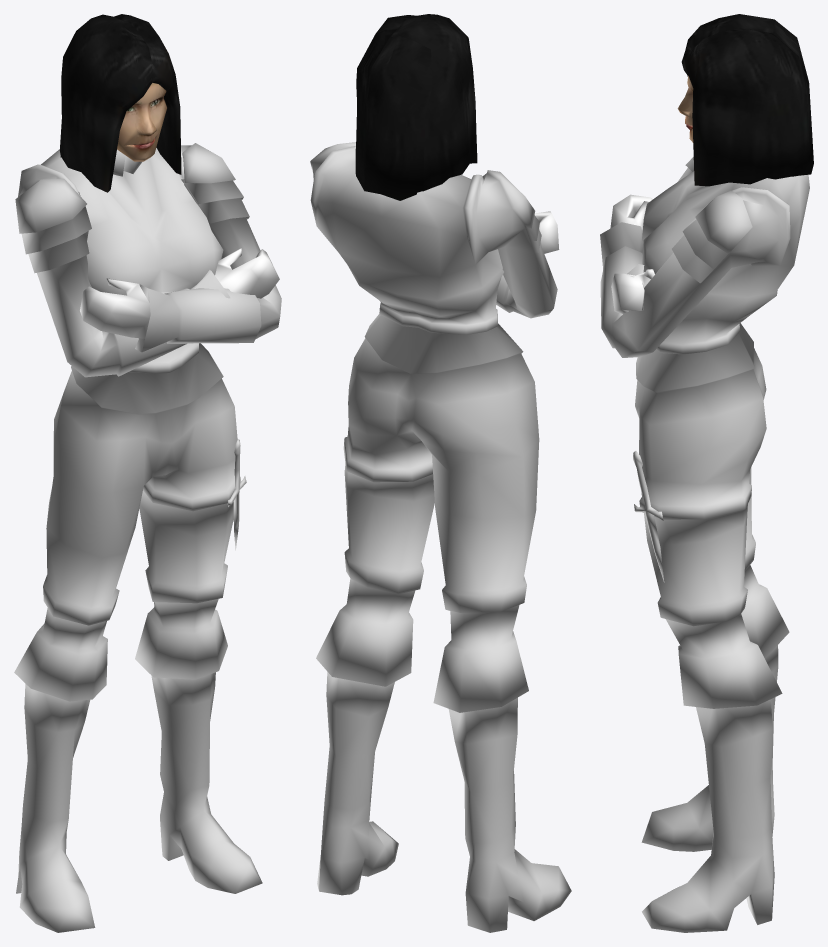
The model's file is Q602_IVY.glb.
3 renders of one model, left to right at view 1: azimuth 30°, elevation 25°; view 2: azimuth 150°, elevation 25°; view 3: azimuth 270°, elevation 25°, orthographic. The views are drawn at different scales.
Visible parts, largest first — view 1: Mesh; view 2: Mesh; view 3: Mesh.
Part boxes in pixels (x1,y1,x2,y2): Mesh: (14, 14, 281, 932); Mesh: (310, 14, 571, 932); Mesh: (600, 14, 813, 932).
Size of the model in its own units: 0.4871 by 1.8 by 0.4044.
3 materials, 1 textured.
